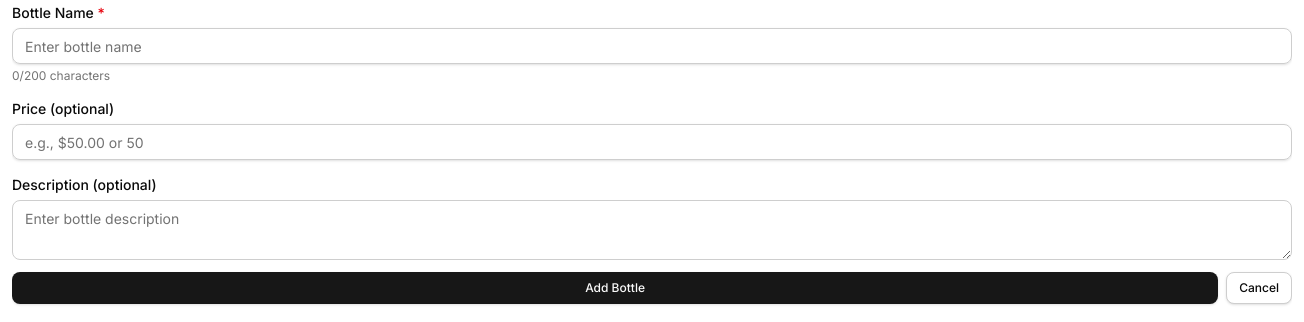
Test: ItemForm › displays character count for name field
This screenshot has width=1304, height=322.
Expected: the text "0/200 characters" is shown, [12,68,110,83]
Step 1. Type "Merlot" into the field labelled "Bottle Name *" → [652, 46], box [12,28,1292,64]
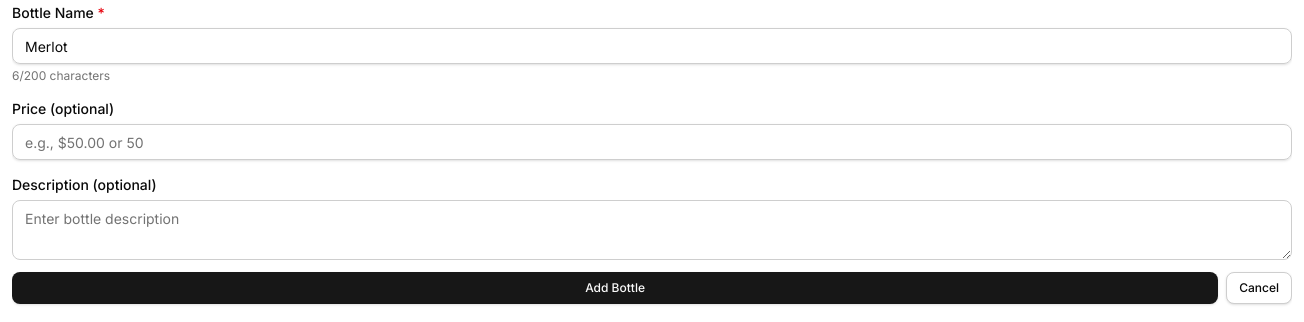
Now the text "6/200 characters" is shown, box [12,68,110,83]
